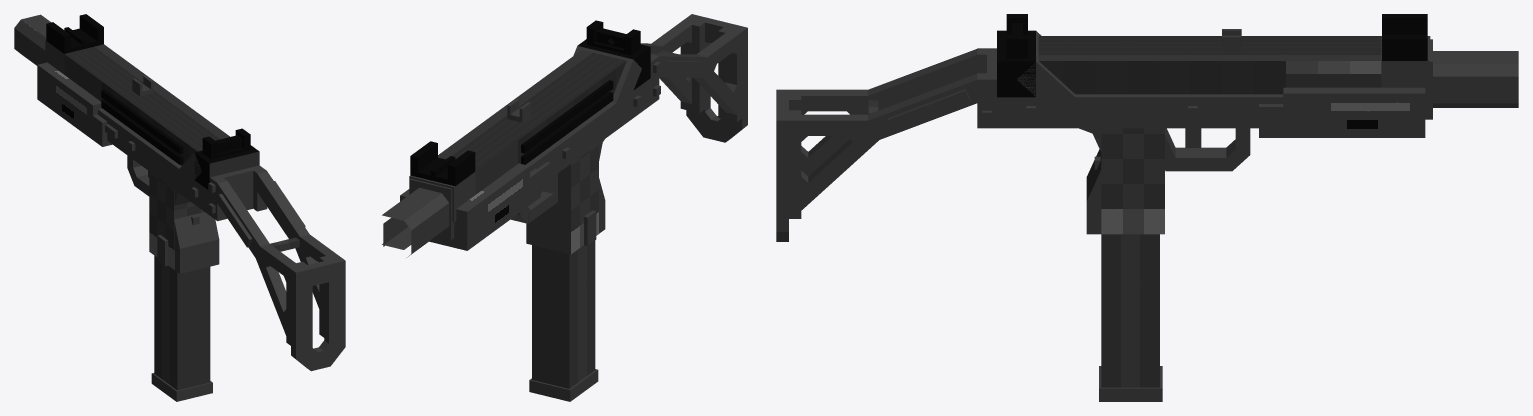
Rendered from mteg_uzi.glb.
3 views of the same model, side by side, from view 1: azimuth 30°, elevation 25°; view 2: azimuth 150°, elevation 25°; view 3: azimuth 270°, elevation 25° (orthographic). The views are drawn at different scales.
Visible parts, largest first — view 1: Gun; view 2: Gun; view 3: Gun.
Boxes of the visible parts, x1,y1,x2,y2 form: Gun: (14, 14, 345, 401); Gun: (382, 14, 747, 401); Gun: (776, 14, 1518, 401).
Bounding box in the file's own units: 0.1125 × 0.5128 × 0.947.
Materials: 1 (1 with a texture image).
